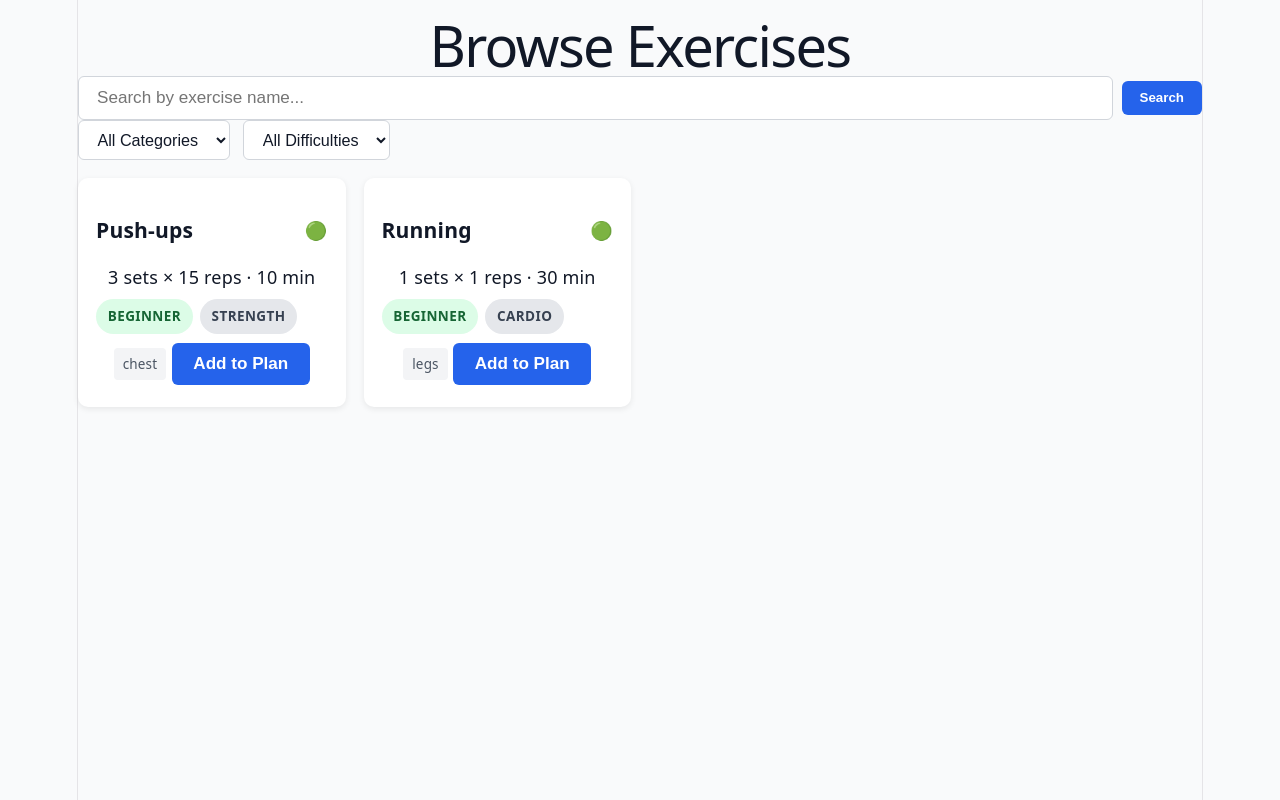
Test: ExercisesPage › filters the exercise list as the user types in the search bar
This screenshot has width=1280, height=800.
Expected: the heading "Push-ups" is shown, [96,217,193,243]
Type "Running" into the field with placeholder "Search by exercise name..." at (595, 98), box [78,76,1112,120]
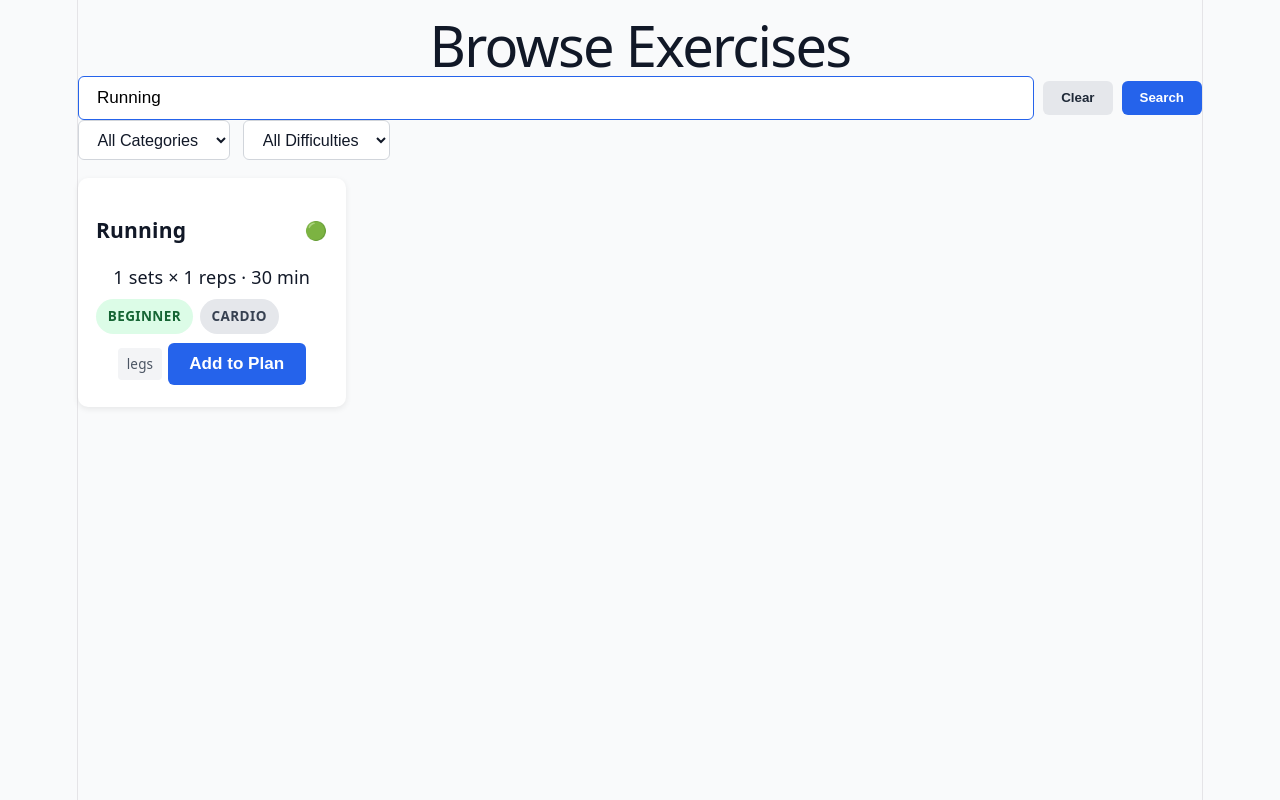
Expected: the heading "Running" is shown, [96,217,186,243]
Now the heading "Push-ups" is gone
